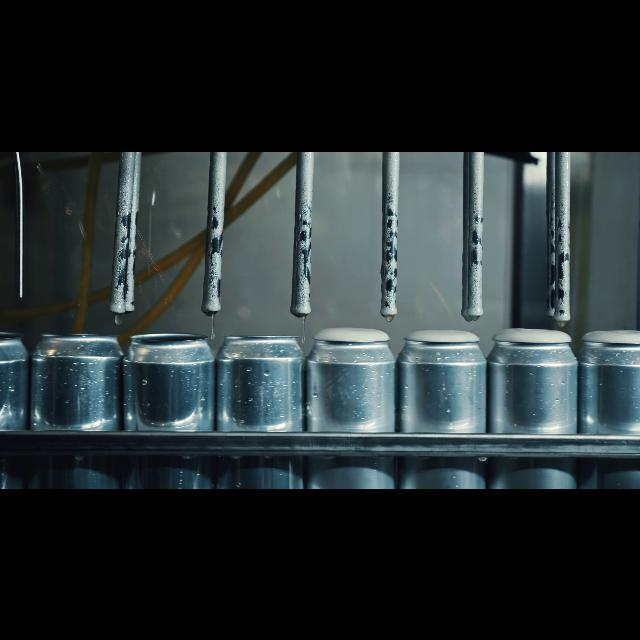empty: (33, 326, 121, 488), (128, 326, 212, 488), (223, 326, 304, 488), (0, 326, 26, 488)
full: (312, 318, 396, 488), (492, 314, 572, 488), (403, 324, 482, 488), (578, 312, 640, 488)
